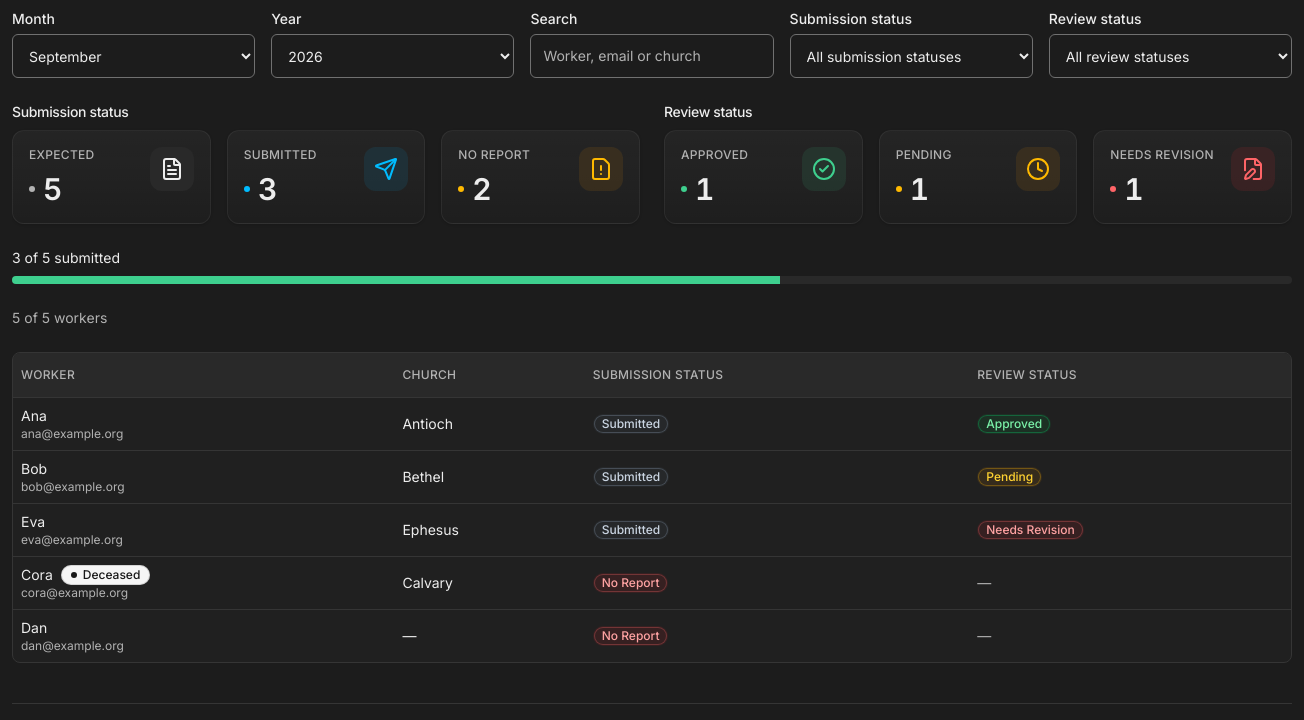
tracker › filters by submission status
The image size is (1304, 720).
Expected: the text "Ana" is shown, [21, 406, 47, 424]
Select "No Report" in the dropdown labelled "Submission status": (911, 56) [790, 34, 1033, 78]
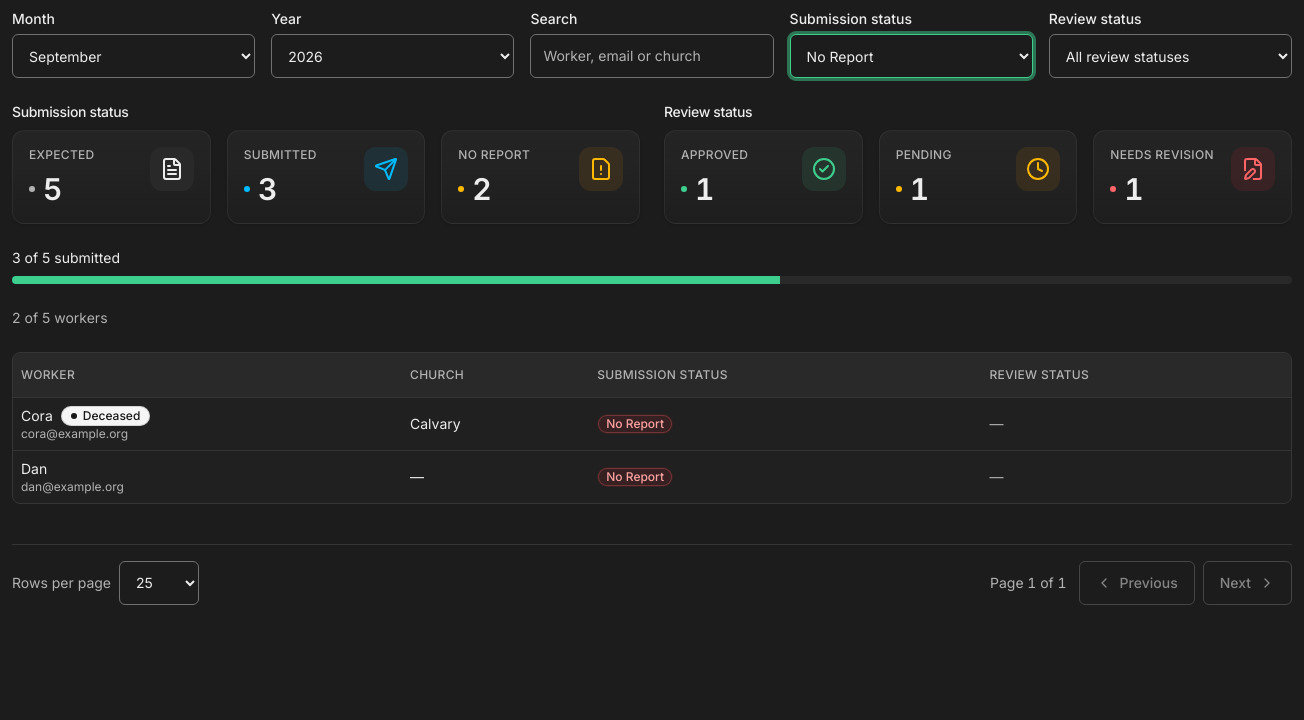
Expected: the progress indicator named "3 of 5 submitted" is shown, [12, 276, 1292, 284]
Result: the text "2 of 5 workers" is shown at [12, 309, 108, 326]
